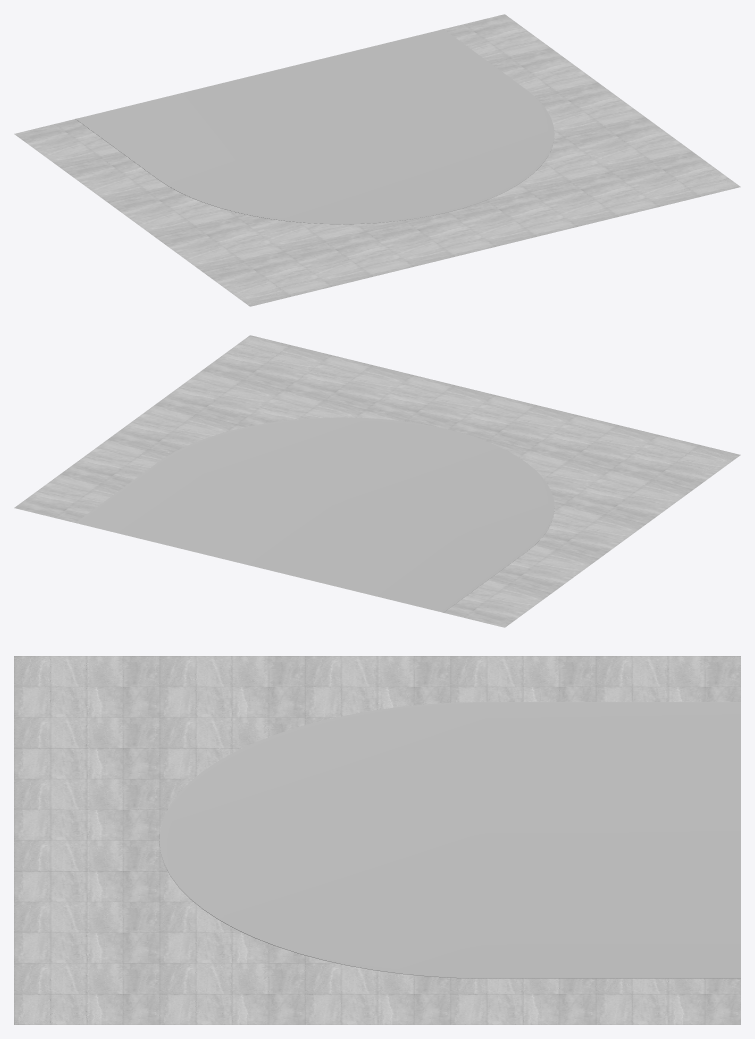
3 renders of one model, top to bottom at view 1: azimuth 30°, elevation 25°; view 2: azimuth 150°, elevation 25°; view 3: azimuth 270°, elevation 25°, orthographic. The views are drawn at different scales.
Parts seen in each view (by area): view 1: M_F_001_b_24x20; view 2: M_F_001_b_24x20; view 3: M_F_001_b_24x20.
Part boxes in pixels (x1,y1,x2,y2): M_F_001_b_24x20: (14,14,740,306); M_F_001_b_24x20: (14,335,740,627); M_F_001_b_24x20: (14,656,740,1024).
Size of the model in its own units: 24 by 0.01 by 20.
